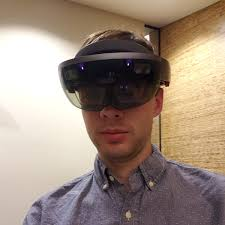hololens: (57, 40, 172, 111)
